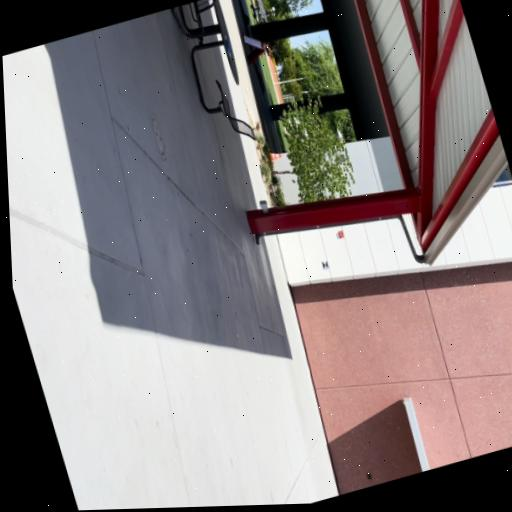target9: (321, 259, 329, 271)
